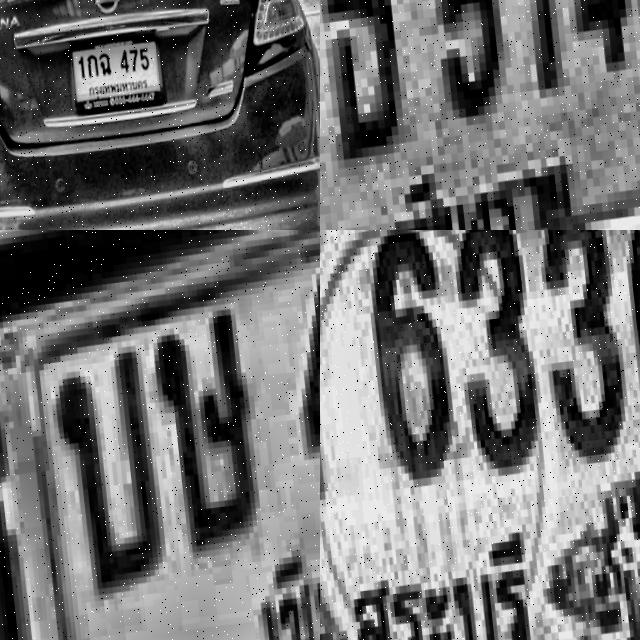license-plate: (0, 230, 320, 640), (320, 230, 640, 640), (320, 0, 640, 230), (63, 22, 175, 119)
